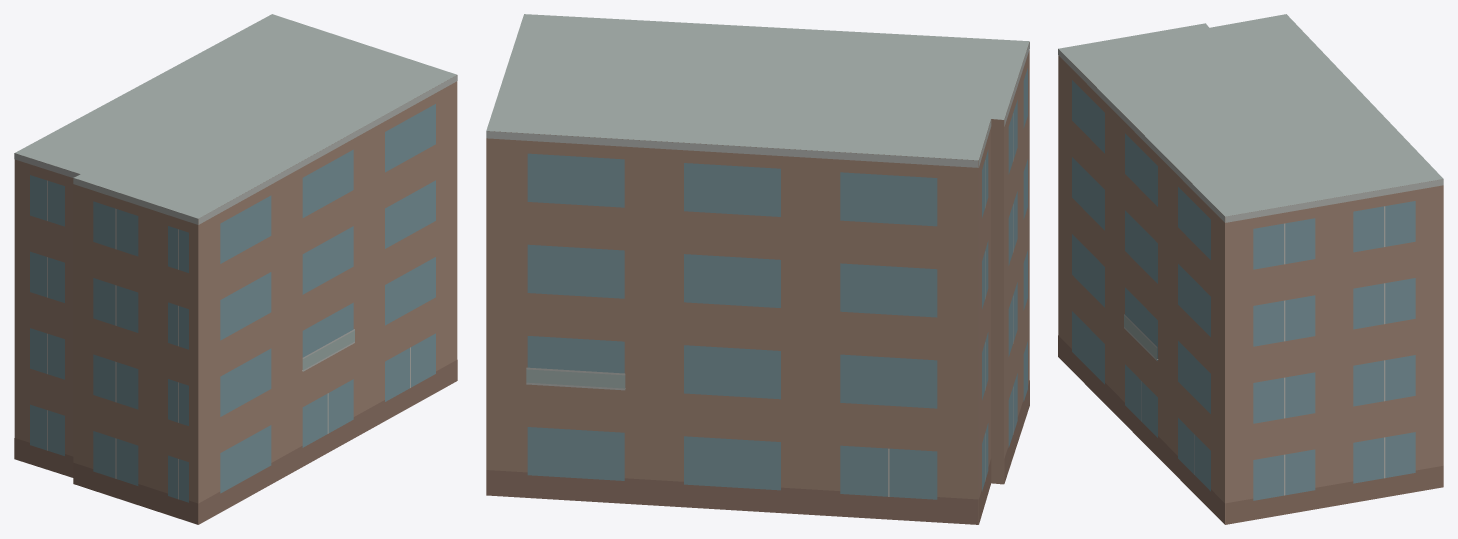
The model's file is survey-upis-32851321.glb.
3 views of the same model, side by side, from view 1: azimuth 30°, elevation 25°; view 2: azimuth 150°, elevation 25°; view 3: azimuth 270°, elevation 25° (orthographic). The views are drawn at different scales.
Visible parts, largest first — view 1: survey-upis-32851321.tmp; view 2: survey-upis-32851321.tmp; view 3: survey-upis-32851321.tmp.
Boxes of the visible parts, <box> form: survey-upis-32851321.tmp: <box>14,14,457,524</box>; survey-upis-32851321.tmp: <box>486,14,1029,524</box>; survey-upis-32851321.tmp: <box>1058,14,1443,524</box>.
Bounding box in the file's own units: 16.79 × 11.9 × 13.49.
